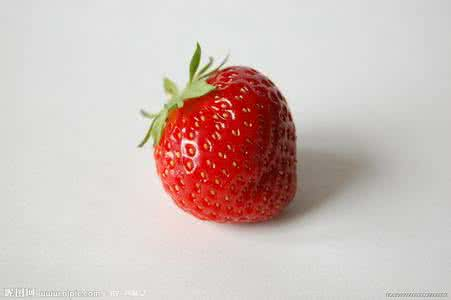strawberry: (132, 49, 302, 222)
